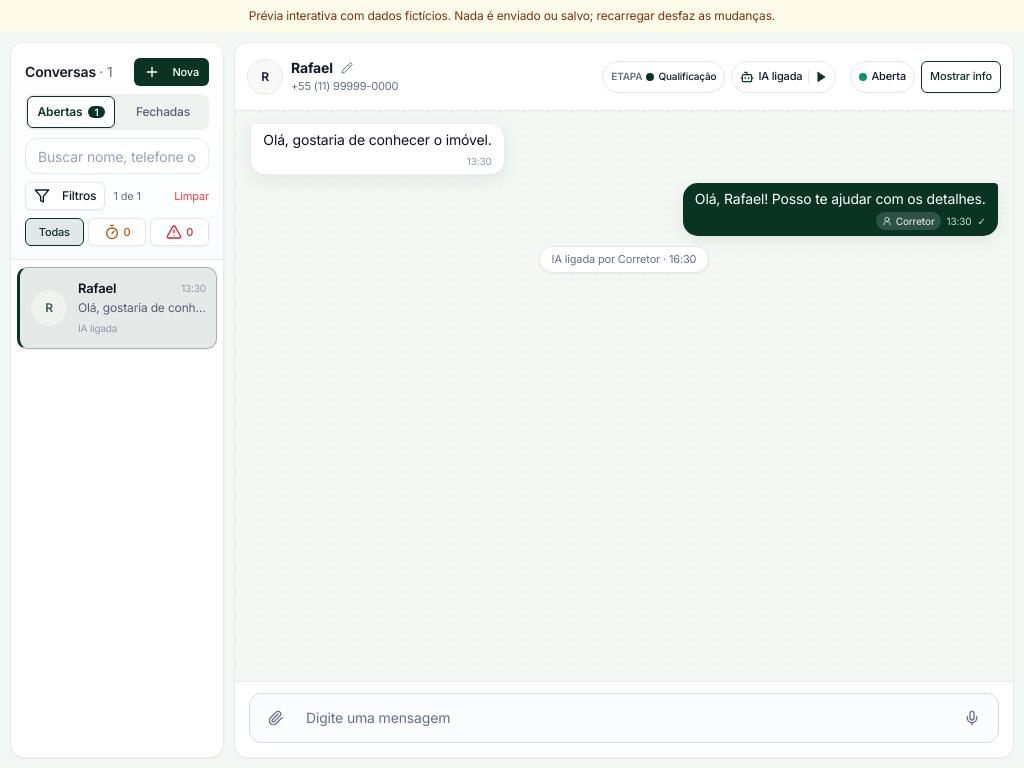
Test: prévia permite ligar/desligar IA sem consultar nem alterar o backend
Expected: the button "R Rafael 13:30 Olá, gostaria de conhecer o imóvel. IA ligada" is shown, [17,267,217,349]
Expected: the text "Prévia interativa com dados fictícios" is shown, [249,8,775,23]
Click the switch labelled "IA" at (784, 76), box [732,60,836,92]
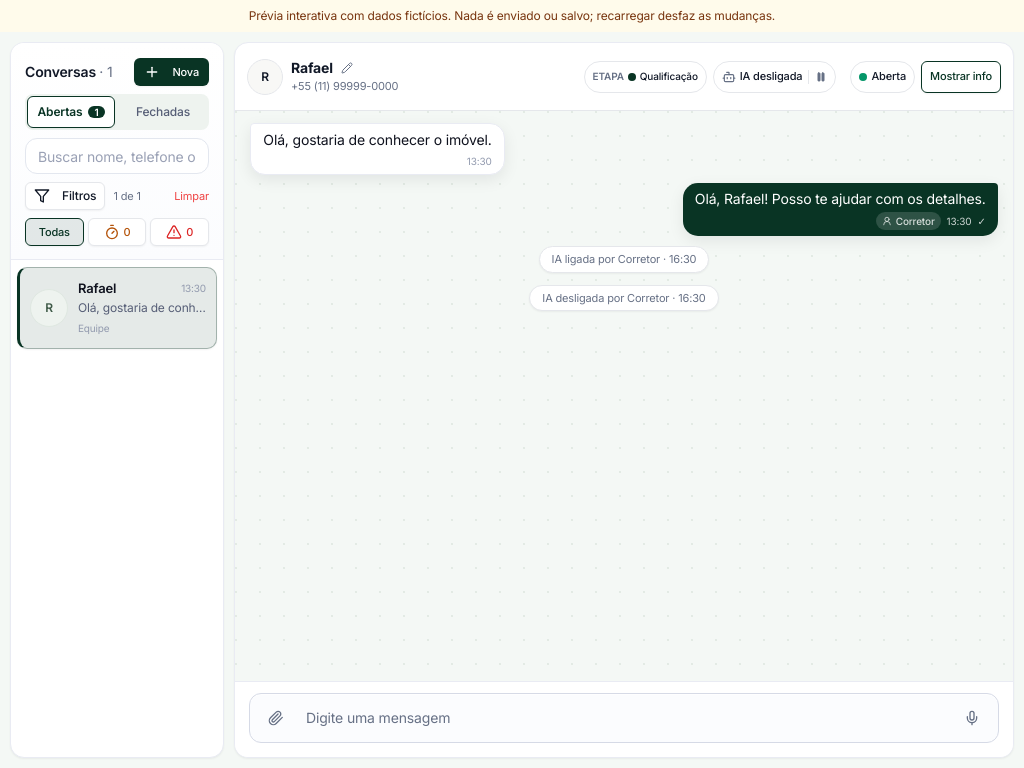
Expected: the text "IA desligada por Corretor · 16:30" is shown, [529,285,719,311]
